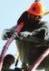hard-hat: (28, 1, 44, 16)
